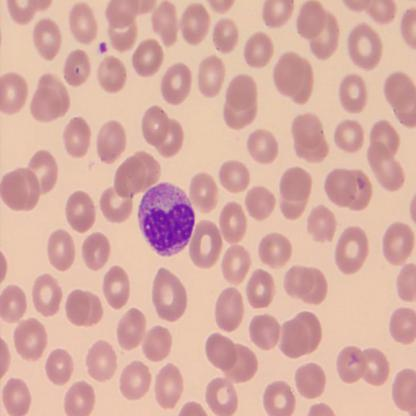Metamyelocyte: (136, 177, 198, 261)
